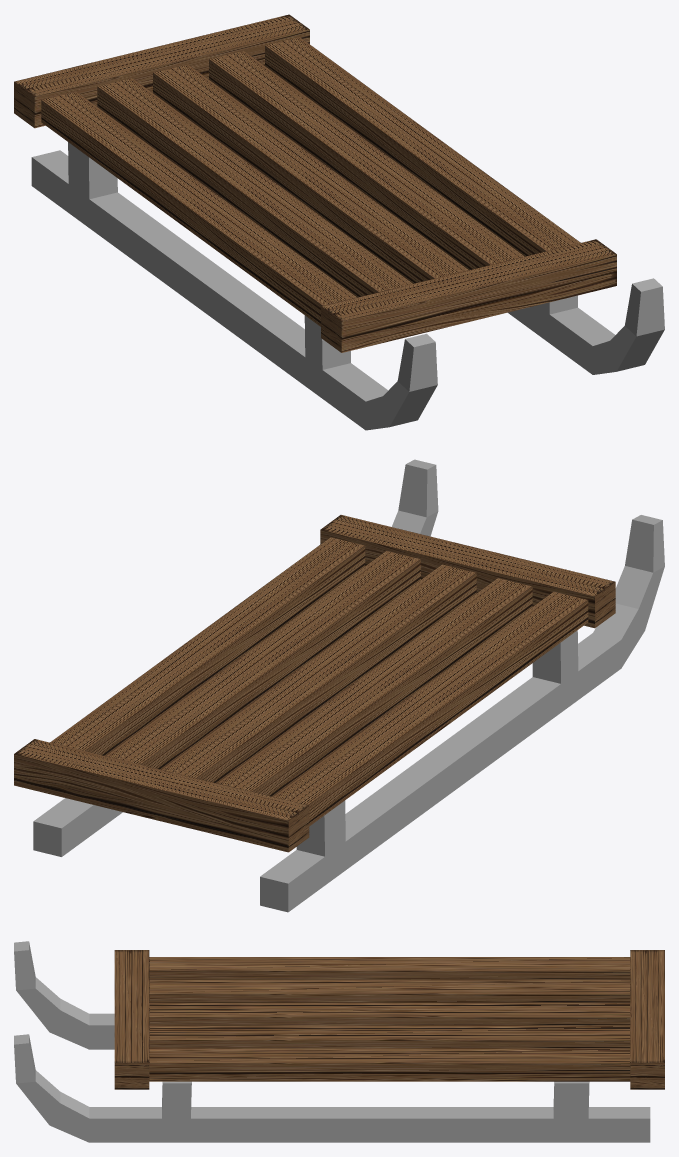
The model's file is WOOD SLED.fbx.
The picture shows the model from 3 angles, top to bottom: view 1: azimuth 30°, elevation 25°; view 2: azimuth 150°, elevation 25°; view 3: azimuth 270°, elevation 25°; orthographic projection. The views are drawn at different scales.
Visible parts, largest first — view 1: Cube.001; view 2: Cube.001; view 3: Cube.001.
Part boxes in pixels (x1=…): Cube.001: x1=14, y1=14, x2=664, y2=430; Cube.001: x1=14, y1=459, x2=664, y2=912; Cube.001: x1=14, y1=941, x2=664, y2=1142.
Bounding box in the file's own units: 393 × 159 × 957.
Materials: 2 (1 with a texture image).
